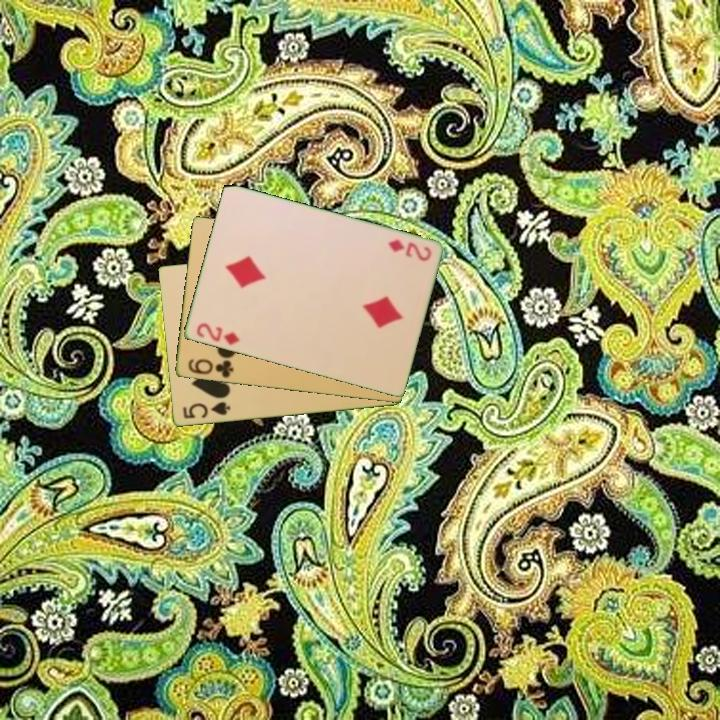2d: (193, 319, 242, 348), (384, 236, 434, 264)
5s: (179, 398, 233, 422)
6c: (184, 355, 236, 381)
